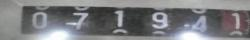digits: (148, 12, 170, 30), (190, 16, 212, 33), (109, 10, 127, 28), (226, 12, 244, 30), (72, 12, 88, 30), (31, 11, 47, 29)
